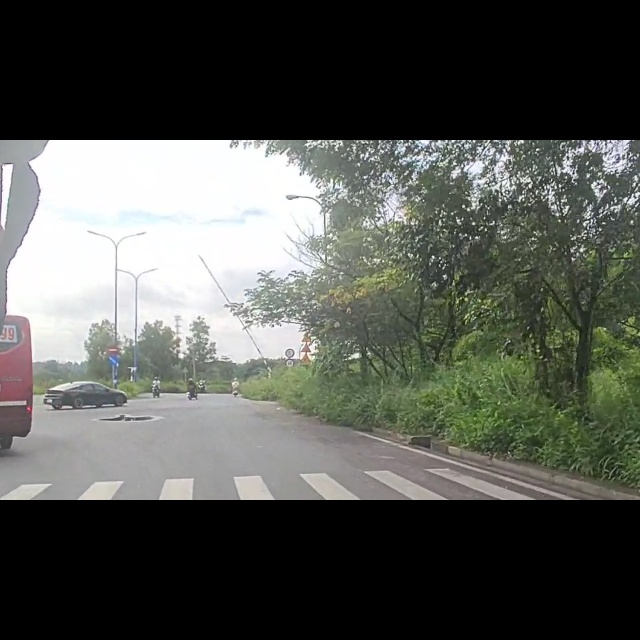bien_hieu_lenh: (300, 377, 313, 398), (107, 382, 119, 404), (107, 366, 121, 383), (285, 390, 295, 403)
